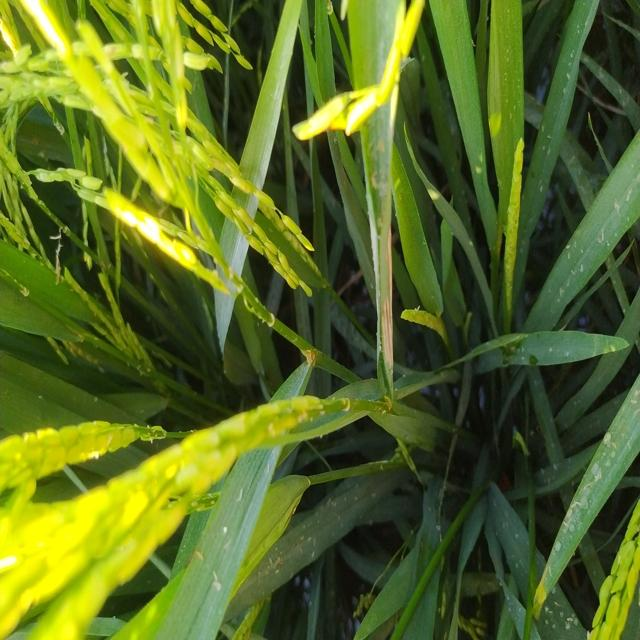Brown spot: (360, 143, 415, 405)
